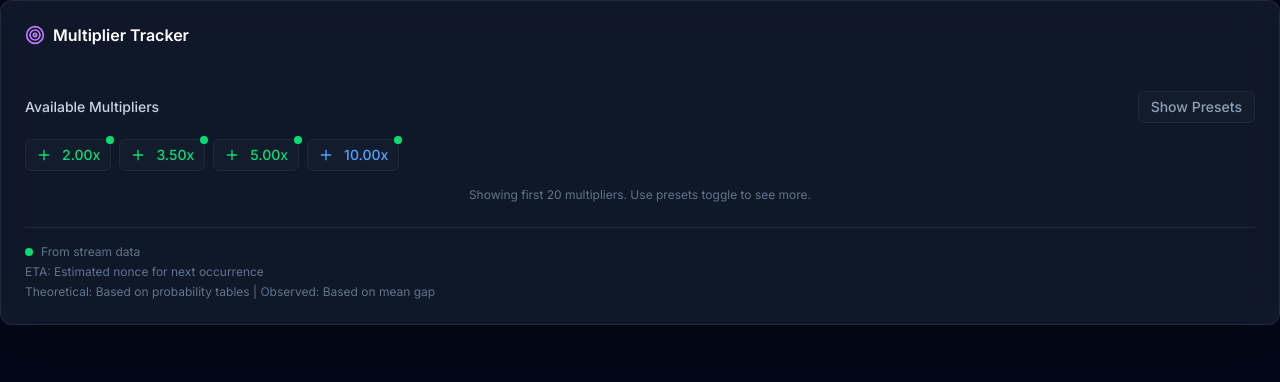
MultiplierTracker › shows preset multipliers when toggle is enabled
The width and height of the screenshot is (1280, 382).
Click the button "Show Presets" at (1196, 107), box [1138,91,1255,123]
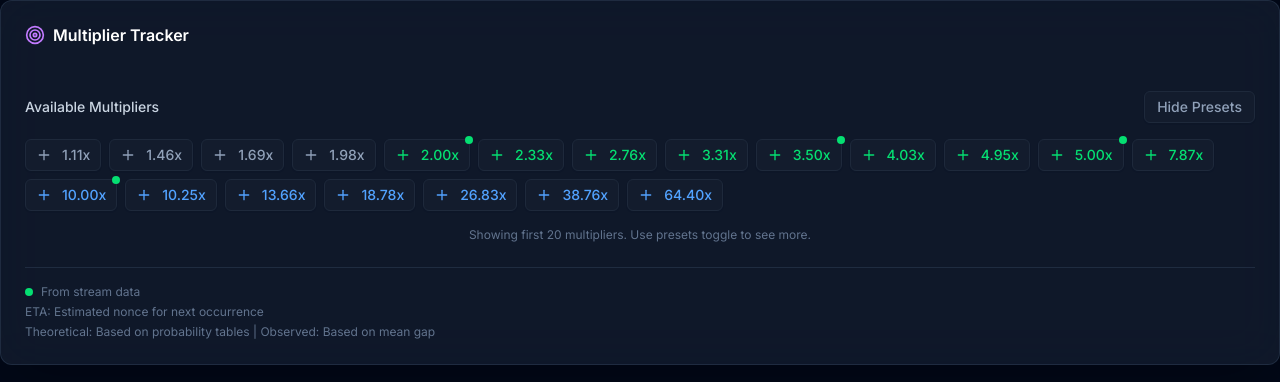
Check: the button "1.11x" is shown, box [25,139,101,171]
Check: the button "1.46x" is shown, box [109,139,193,171]
